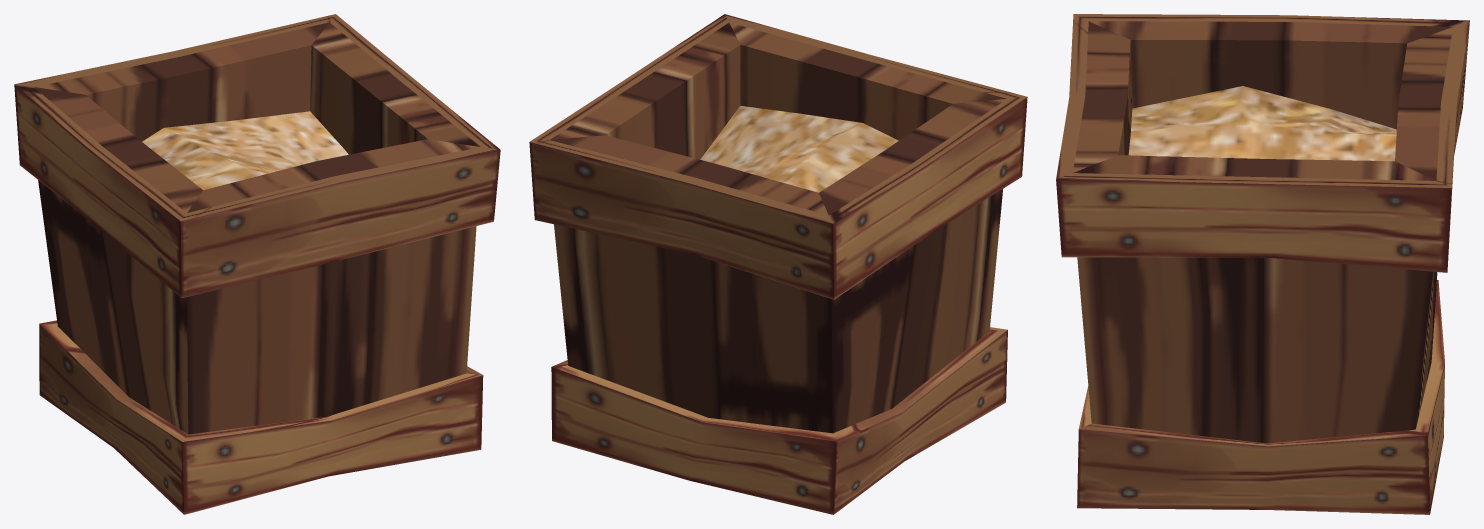
File: SM_PROP_box_03.glb
3 views of the same model, side by side, from view 1: azimuth 30°, elevation 25°; view 2: azimuth 150°, elevation 25°; view 3: azimuth 270°, elevation 25° (orthographic). The views are drawn at different scales.
Visible parts, largest first — view 1: SM_PROP_box_03_EXPORT; view 2: SM_PROP_box_03_EXPORT; view 3: SM_PROP_box_03_EXPORT.
Boxes of the visible parts, x1=… form: SM_PROP_box_03_EXPORT: x1=14, y1=14, x2=500, y2=514; SM_PROP_box_03_EXPORT: x1=529, y1=14, x2=1027, y2=514; SM_PROP_box_03_EXPORT: x1=1056, y1=14, x2=1469, y2=514.
Size of the model in its own units: 0.9459 by 0.845 by 0.9441.
3 materials, 3 textured.
